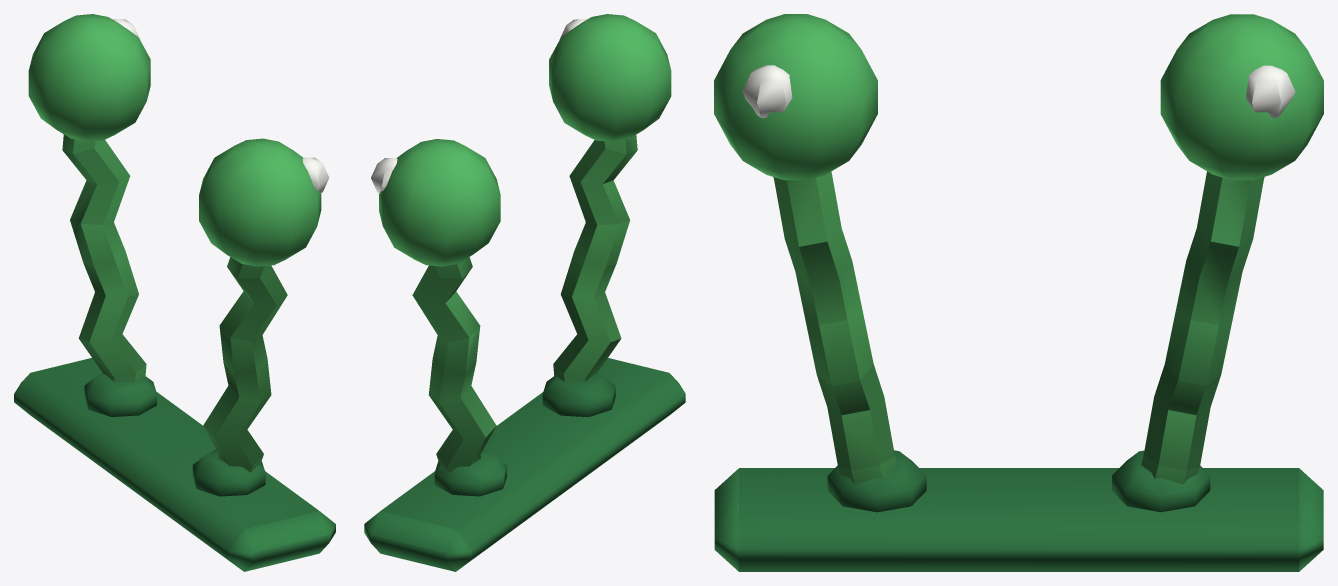
File: SM_Acc_AlienAntennae.fbx
The picture shows the model from 3 angles, left to right: view 1: azimuth 30°, elevation 25°; view 2: azimuth 150°, elevation 25°; view 3: azimuth 270°, elevation 25°; orthographic projection. The views are drawn at different scales.
Visible parts, largest first — view 1: SM_Acc_AlienAntennae; view 2: SM_Acc_AlienAntennae; view 3: SM_Acc_AlienAntennae.
Part boxes in pixels (<box>): SM_Acc_AlienAntennae: <box>14,14,335,571</box>; SM_Acc_AlienAntennae: <box>364,14,685,571</box>; SM_Acc_AlienAntennae: <box>714,14,1323,571</box>.
Bounding box in the file's own units: 8.07 × 28.66 × 30.06.
